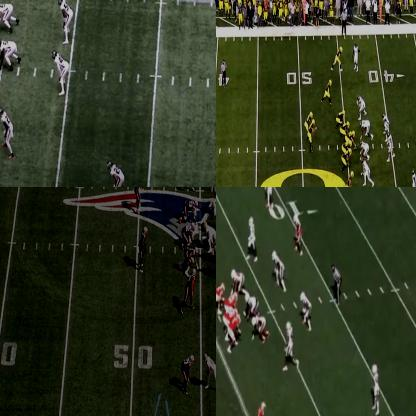CENTER: (224, 292, 240, 314), (201, 223, 212, 250), (344, 129, 358, 149)
DB: (0, 108, 18, 161), (108, 160, 127, 186), (183, 354, 195, 393), (292, 212, 302, 254), (373, 362, 381, 410), (350, 44, 361, 70), (264, 187, 273, 207), (410, 169, 415, 186)
LB: (51, 51, 70, 95), (57, 0, 75, 44), (136, 224, 148, 270), (298, 292, 312, 329), (184, 268, 195, 315), (274, 252, 286, 289), (247, 214, 256, 259), (134, 187, 146, 217), (386, 133, 396, 164)
QB: (308, 120, 315, 155)
SKILL: (202, 352, 215, 389), (332, 46, 343, 71), (305, 111, 313, 139), (323, 81, 332, 105), (253, 401, 266, 415), (381, 115, 390, 134), (344, 169, 354, 186)
